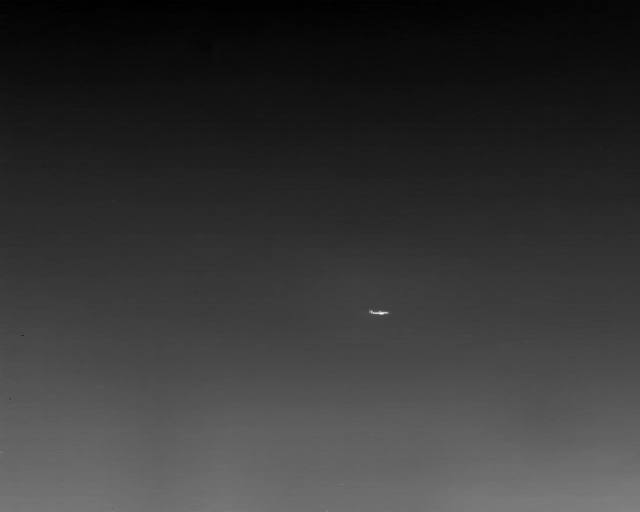Target: (369, 310, 392, 317)
